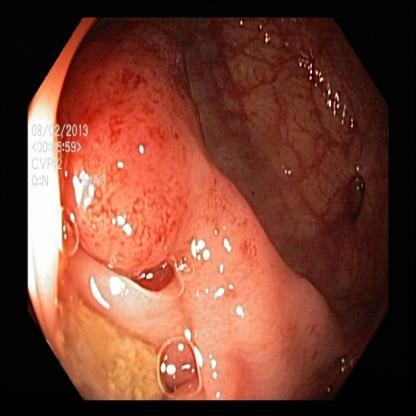Labels: (30, 108, 100, 190)
Polyps: (63, 87, 180, 264)
